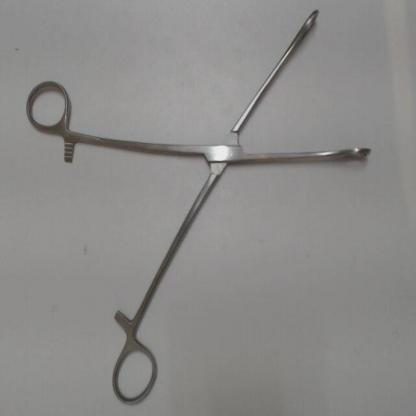Sponge Forceps: (19, 0, 383, 411)
